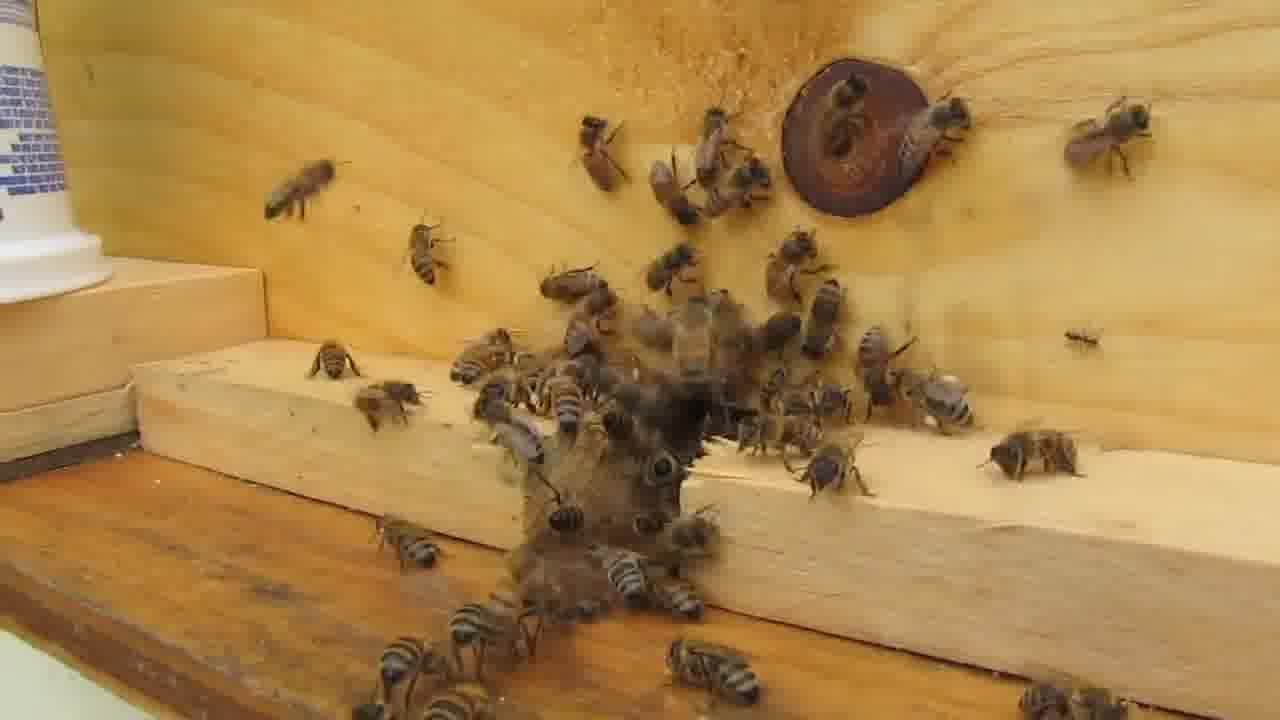pollen: (887, 365, 981, 434)
